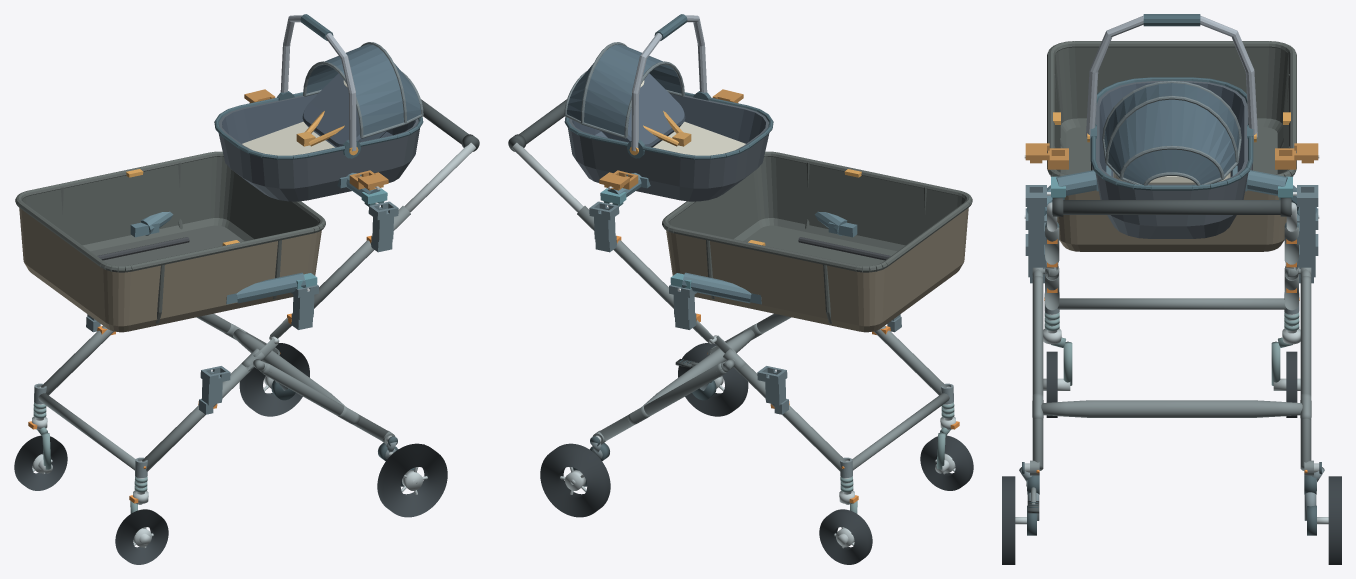
The model's file is D19_w650_state1_wheel_S.glb.
3 views of the same model, side by side, from view 1: azimuth 30°, elevation 25°; view 2: azimuth 150°, elevation 25°; view 3: azimuth 270°, elevation 25° (orthographic). The views are drawn at different scales.
Parts seen in each view (by area): view 1: D19_Lower, D19_Upper, RL_tire.008, D19_Lower_Mount_M, RR_tire.008, FL_tire.008, FR_tire.008, V46_rear_leg_-1.009, main_lower_-1.009, front_fixed_round_tube.008, main_upper_-1.009, V46_rearbar.009 (+8 smaller); view 2: D19_Lower, D19_Upper, RR_tire.008, D19_Lower_Mount_M, FR_tire.008, RL_tire.008, FL_tire.008, V46_rear_leg_1.009, main_lower_1.009, front_fixed_round_tube.008, main_upper_1.009, V46_rearbar.009 (+8 smaller); view 3: D19_Upper, D19_Lower, V46_rearbar.009, round_handle.008, front_fixed_round_tube.008, D19_Upper_Mount_H, V46_rear_leg_1.009, V46_rear_leg_-1.009, RL_tire.008, RR_tire.008, Universal_Cabin_Receiver_H_1, Universal_Cabin_Receiver_H_-1 (+10 smaller).
Part boxes in pixels (x1,y1,x2,y2): D19_Lower: [15, 151, 325, 332]; D19_Upper: [214, 14, 423, 201]; RL_tire.008: [377, 443, 447, 517]; D19_Lower_Mount_M: [130, 211, 317, 304]; RR_tire.008: [239, 343, 309, 416]; FL_tire.008: [115, 509, 168, 564]; FR_tire.008: [14, 435, 67, 490]; V46_rear_leg_-1.009: [261, 363, 388, 441]; main_lower_-1.009: [142, 363, 252, 471]; front_fixed_round_tube.008: [38, 393, 135, 470]; main_upper_-1.009: [314, 206, 410, 308]; V46_rearbar.009: [233, 329, 345, 406]; D19_Lower: [662, 151, 972, 332]; D19_Upper: [564, 14, 773, 201]; RR_tire.008: [540, 443, 610, 517]; D19_Lower_Mount_M: [670, 211, 857, 304]; FR_tire.008: [819, 509, 872, 564]; RL_tire.008: [678, 343, 748, 416]; FL_tire.008: [920, 435, 973, 490]; V46_rear_leg_1.009: [599, 363, 726, 441]; main_lower_1.009: [735, 363, 845, 471]; front_fixed_round_tube.008: [852, 393, 949, 470]; main_upper_1.009: [577, 206, 673, 308]; V46_rearbar.009: [642, 329, 754, 406]; D19_Upper: [1086, 14, 1257, 238]; D19_Lower: [1047, 41, 1296, 251]; V46_rearbar.009: [1041, 400, 1302, 417]; round_handle.008: [1052, 200, 1291, 214]; front_fixed_round_tube.008: [1057, 298, 1286, 309]; D19_Upper_Mount_H: [1047, 165, 1296, 199]; V46_rear_leg_1.009: [1300, 276, 1311, 470]; V46_rear_leg_-1.009: [1032, 276, 1043, 470]; RL_tire.008: [1002, 476, 1015, 564]; RR_tire.008: [1328, 476, 1341, 564]; Universal_Cabin_Receiver_H_1: [1297, 185, 1318, 244]; Universal_Cabin_Receiver_H_-1: [1025, 185, 1046, 244].
Size of the model in its own units: 1.14 by 1.32 by 0.766.
